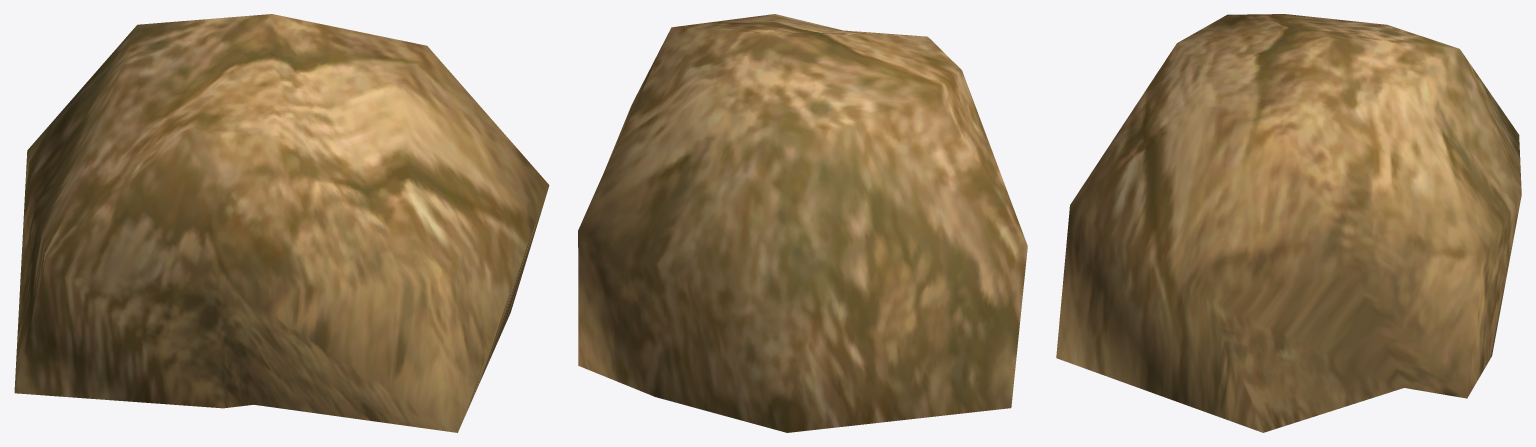
File: M5_Rock_Big01.glb
The picture shows the model from 3 angles, left to right: view 1: azimuth 30°, elevation 25°; view 2: azimuth 150°, elevation 25°; view 3: azimuth 270°, elevation 25°; orthographic projection. The views are drawn at different scales.
Parts seen in each view (by area): view 1: M5_ROCK_BIG01; view 2: M5_ROCK_BIG01; view 3: M5_ROCK_BIG01.
Part boxes in pixels (box(x1,y1,x2,y2)): M5_ROCK_BIG01: box(14, 14, 549, 432); M5_ROCK_BIG01: box(578, 14, 1027, 432); M5_ROCK_BIG01: box(1056, 14, 1521, 432).
Size of the model in its own units: 3.32 by 2.2 by 3.07.
1 material, 1 textured.
